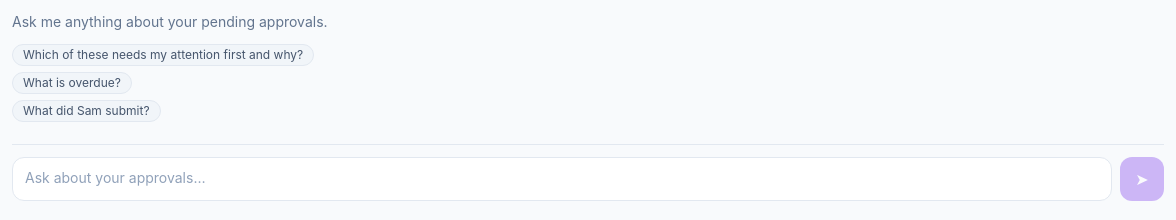
Scenario: <ChatView /> › treats a stream that ends without "done" as an error, not a silent success
Type "hello" into the text box named "message" at (562, 179), box x1=12 y1=157 x2=1112 y2=201
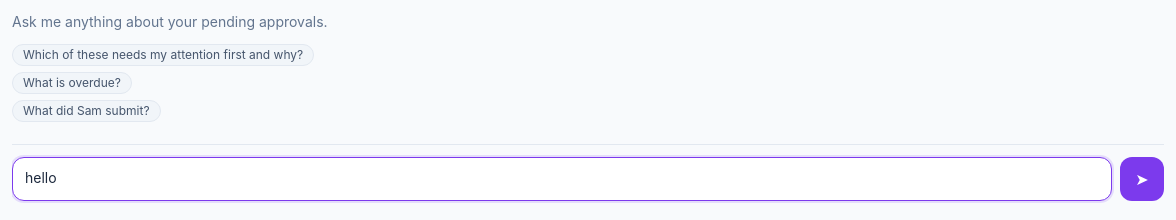
Click the button named "send" at (1142, 179), box x1=1120 y1=157 x2=1164 y2=201
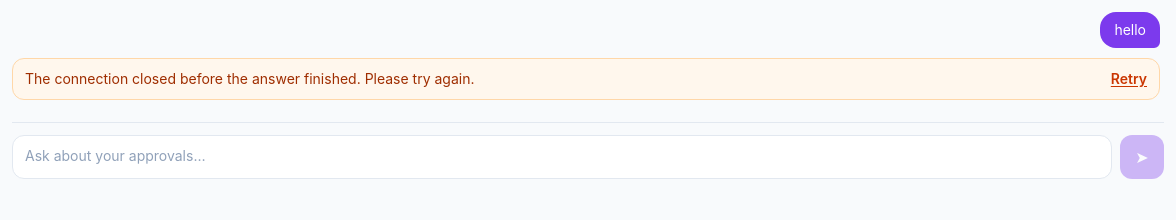
Now the message "The connection closed before the answer finished. Please try again. Retry" is shown, box x1=12 y1=58 x2=1160 y2=100
